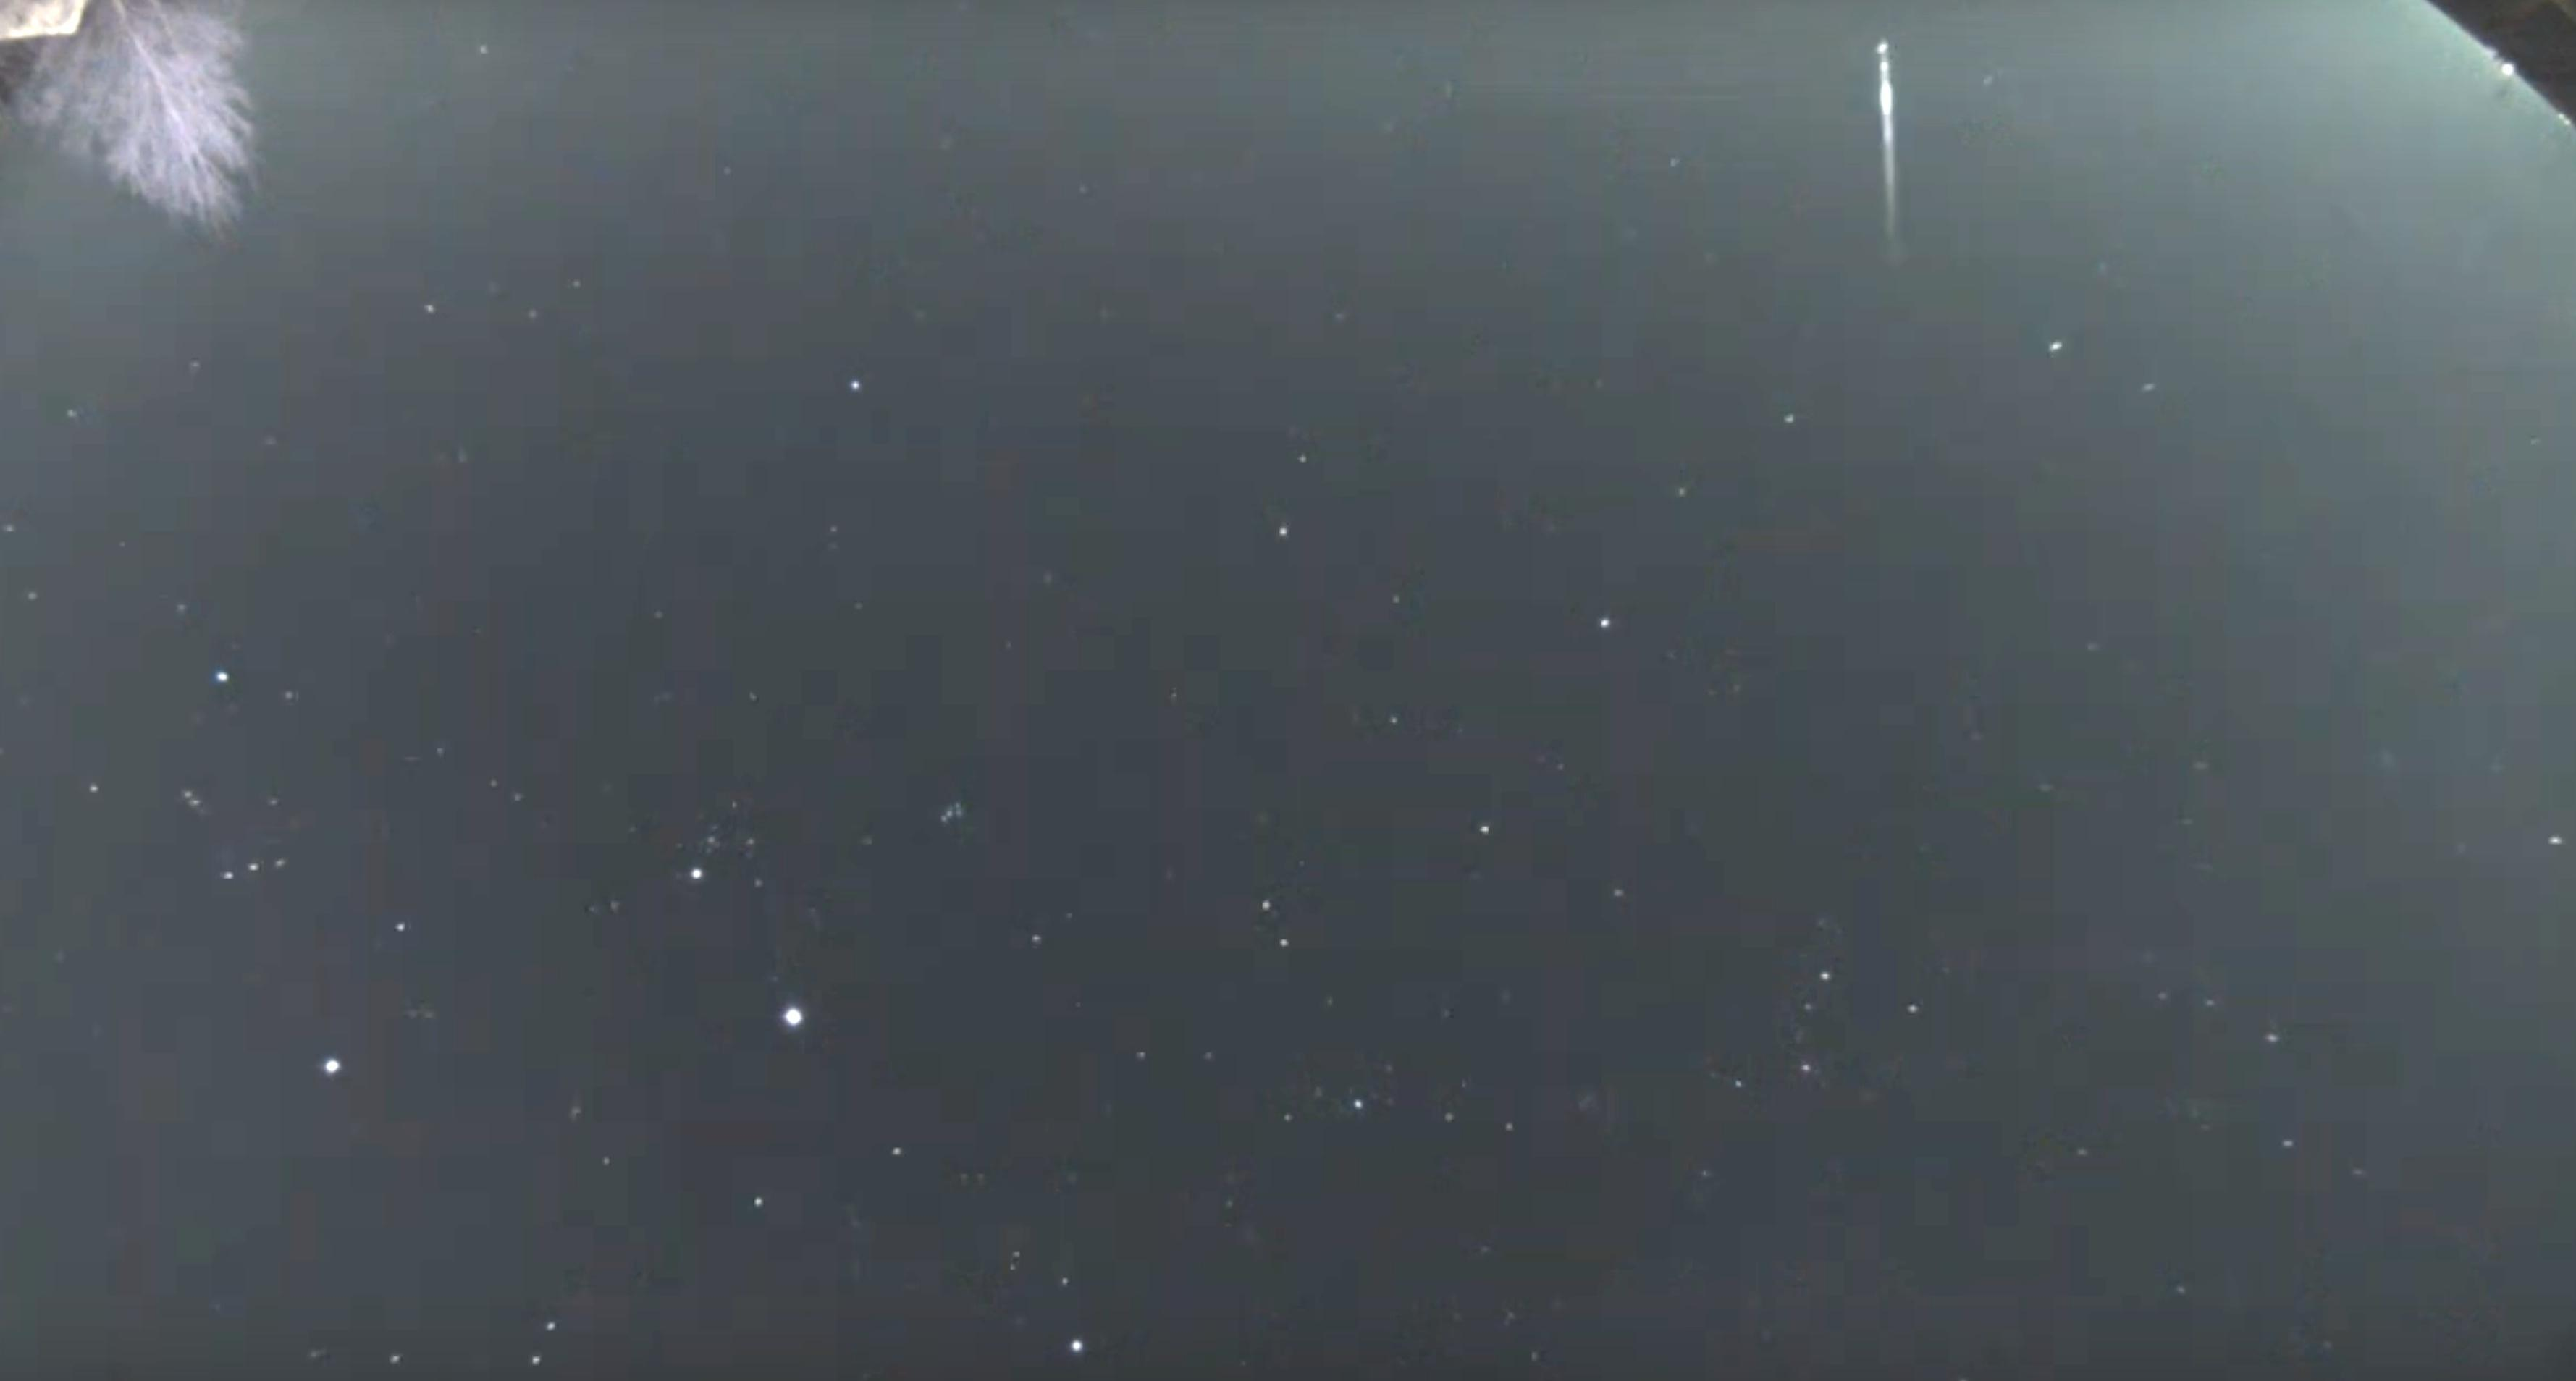meteorite: (1820, 26, 1959, 230)
